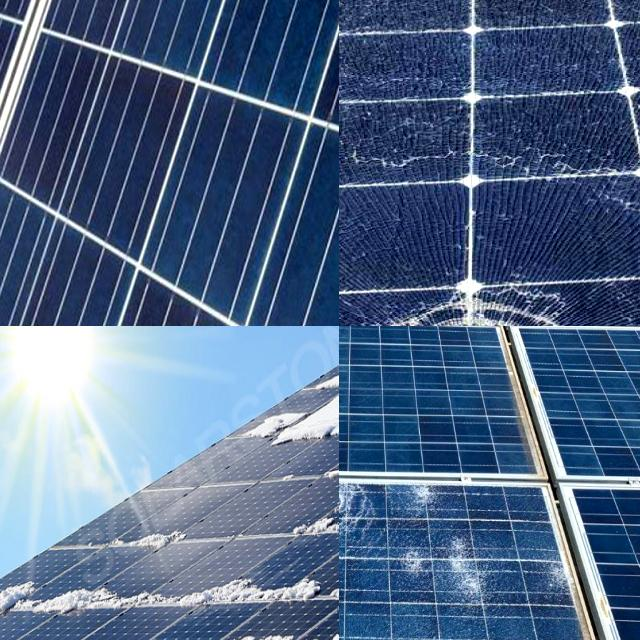crack: (0, 0, 339, 326)
hotspot: (339, 281, 593, 326), (396, 540, 492, 626), (396, 488, 468, 530), (339, 474, 373, 552), (339, 488, 385, 539), (540, 552, 584, 605), (339, 563, 366, 640), (339, 542, 359, 610), (339, 470, 357, 513)
panel: (0, 584, 339, 608), (96, 508, 188, 568), (278, 473, 339, 563), (257, 399, 307, 452), (308, 460, 339, 502)
